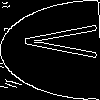V: (25, 25, 100, 58)
